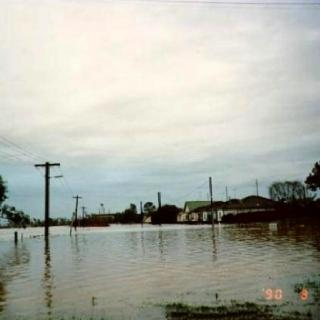Stratus: (0, 0, 320, 158)
